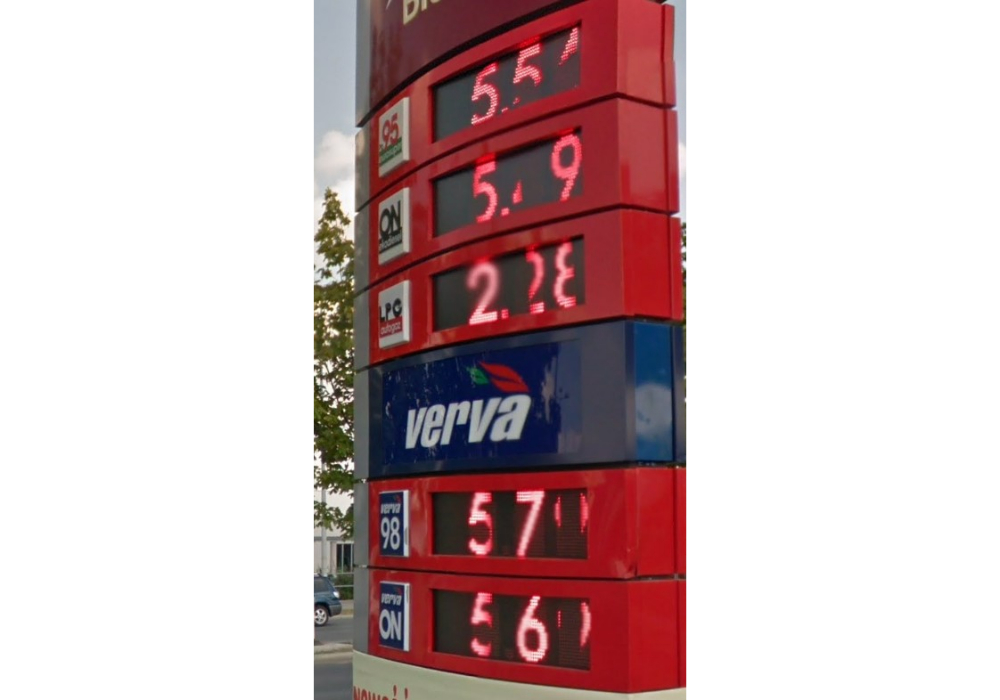LPG: (375, 276, 410, 352)
ON: (372, 183, 413, 268), (377, 574, 409, 656)
PB95: (370, 96, 414, 179)
PB98: (376, 485, 409, 561)
